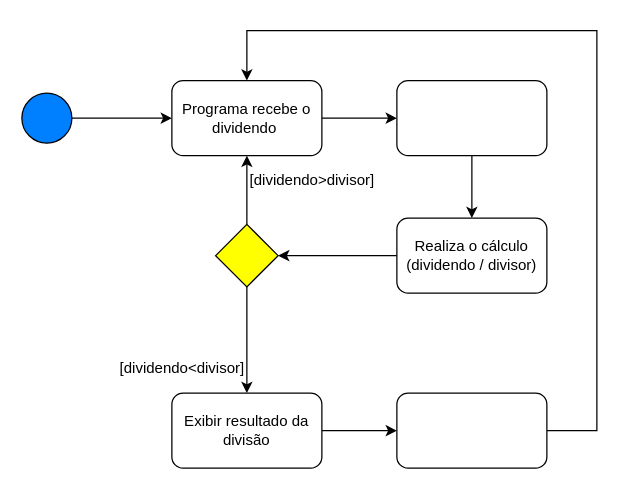
Some shapes in this 629 by 490 pixel diagram are drawn without their labels. Each missing label, with the box of its shape:
Exibir o resto: (396, 392, 547, 468)
Programa recebe o divisor: (396, 79, 547, 156)
